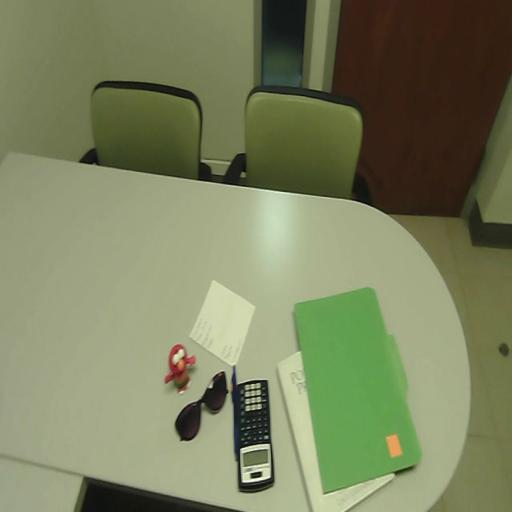pen: (231, 366, 239, 461)
